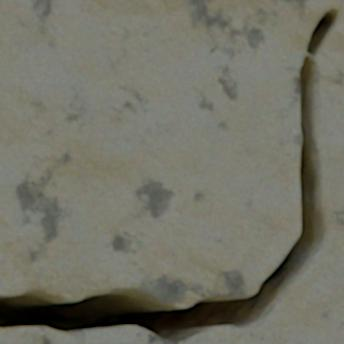crack: (0, 1, 343, 343)
